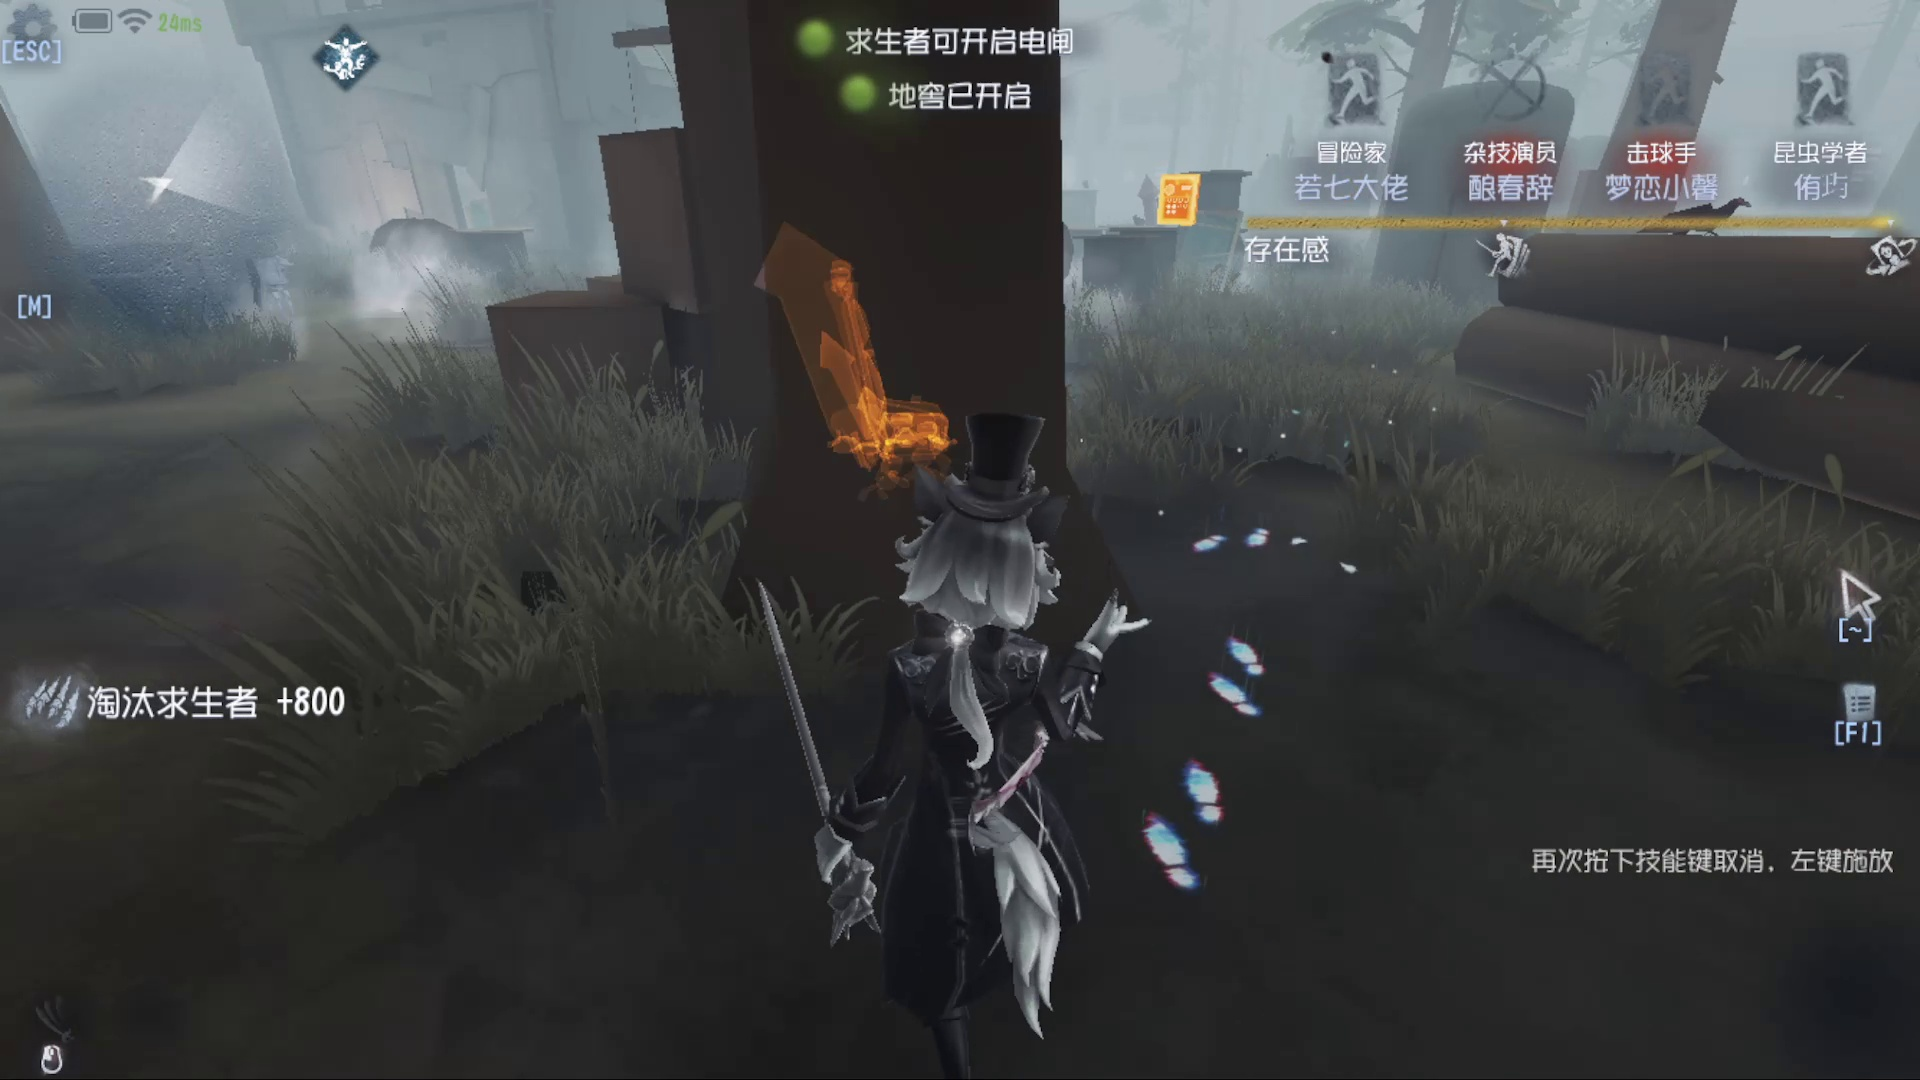狂欢之椅: (738, 243, 965, 496)
